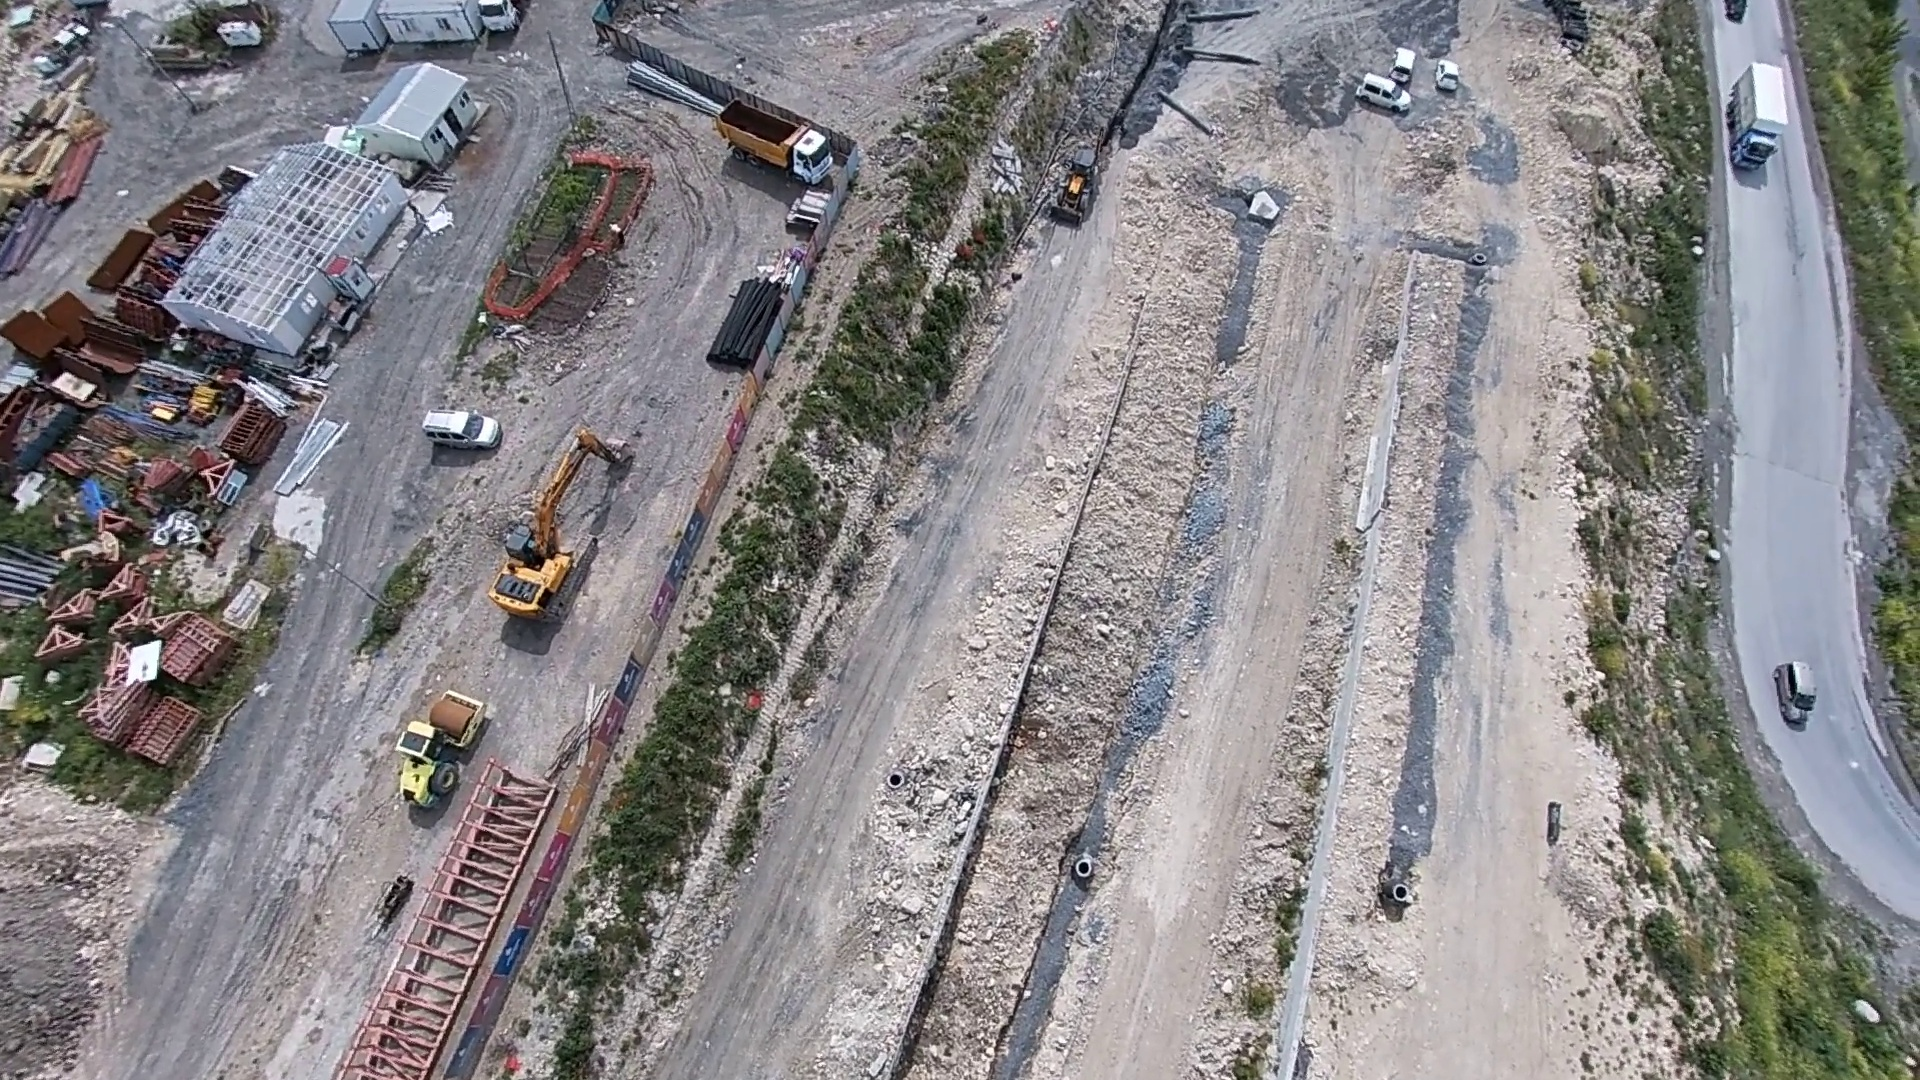arac: (489, 421, 645, 626), (392, 675, 495, 816), (709, 98, 837, 187), (1726, 63, 1795, 173), (1047, 138, 1108, 229), (415, 402, 513, 448), (1768, 659, 1822, 735), (1352, 69, 1411, 111), (1386, 44, 1428, 84), (473, 3, 521, 37), (1437, 57, 1468, 98), (1720, 1, 1753, 28)
